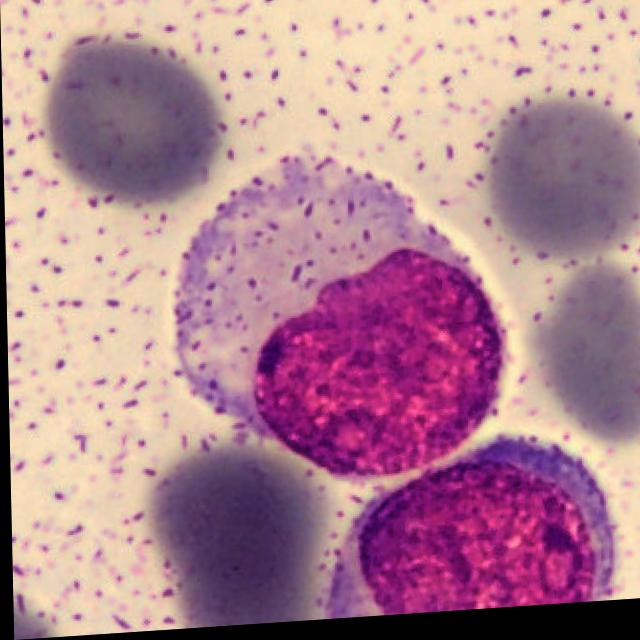Mieloblasto: (183, 173, 506, 482), (330, 443, 609, 623)
